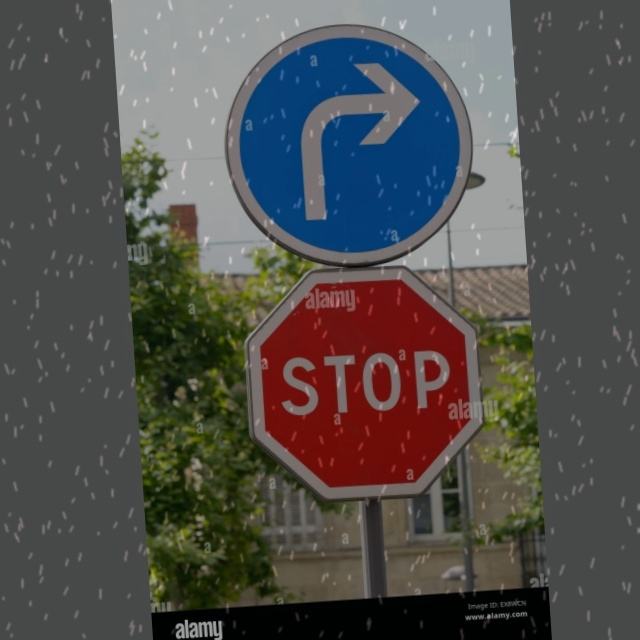Compulsory_Turn_Right_Ahead: (218, 20, 484, 269)
